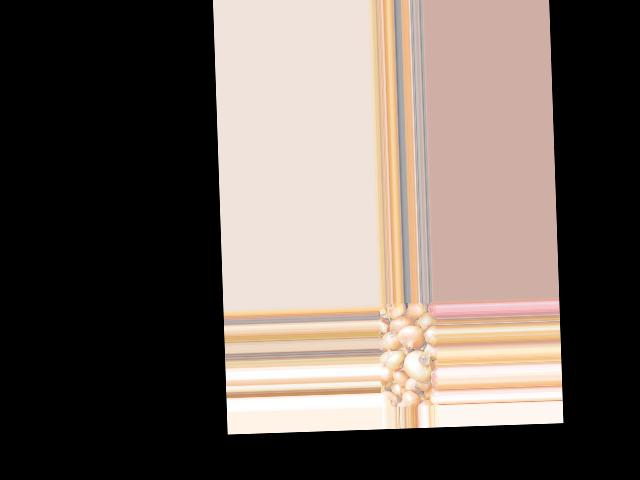onion: (382, 329, 401, 349)
